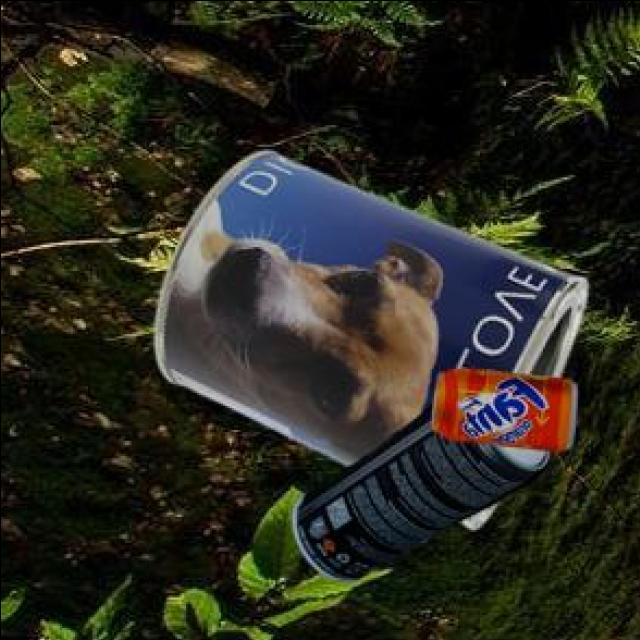logam: (151, 153, 584, 532), (288, 406, 547, 584), (428, 371, 574, 454)
